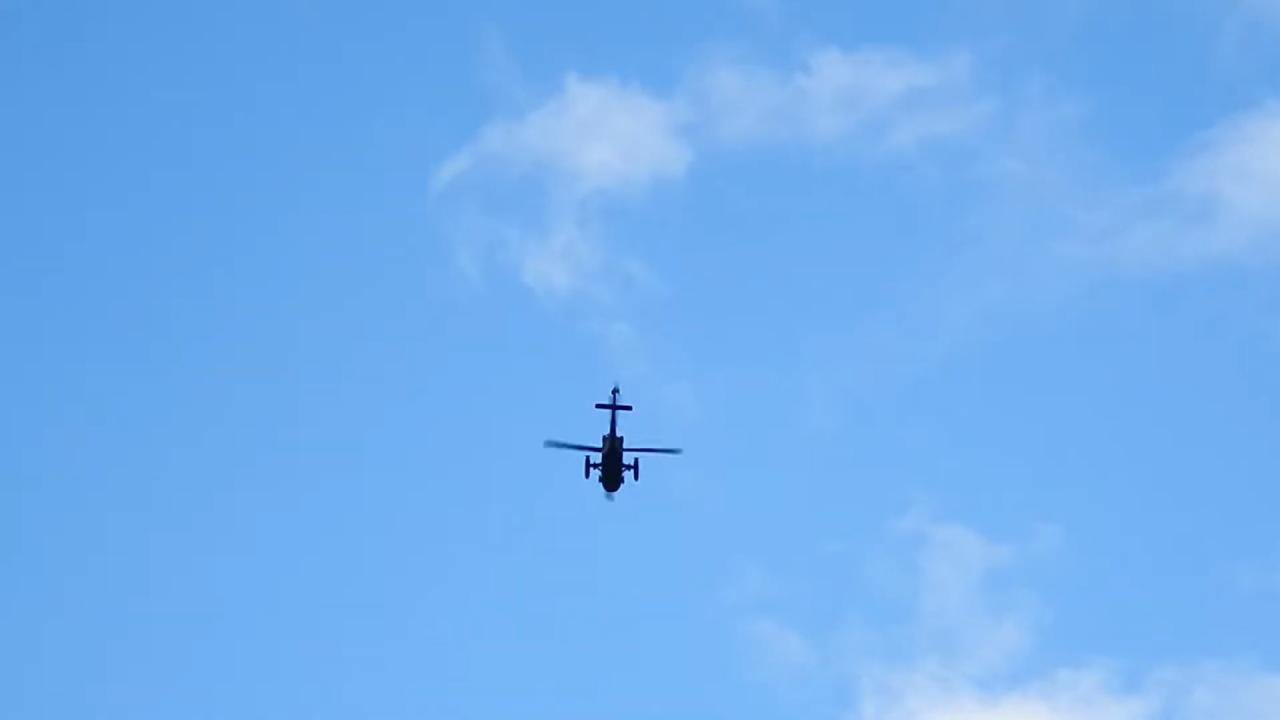Helicopter: (500, 364, 720, 524)
